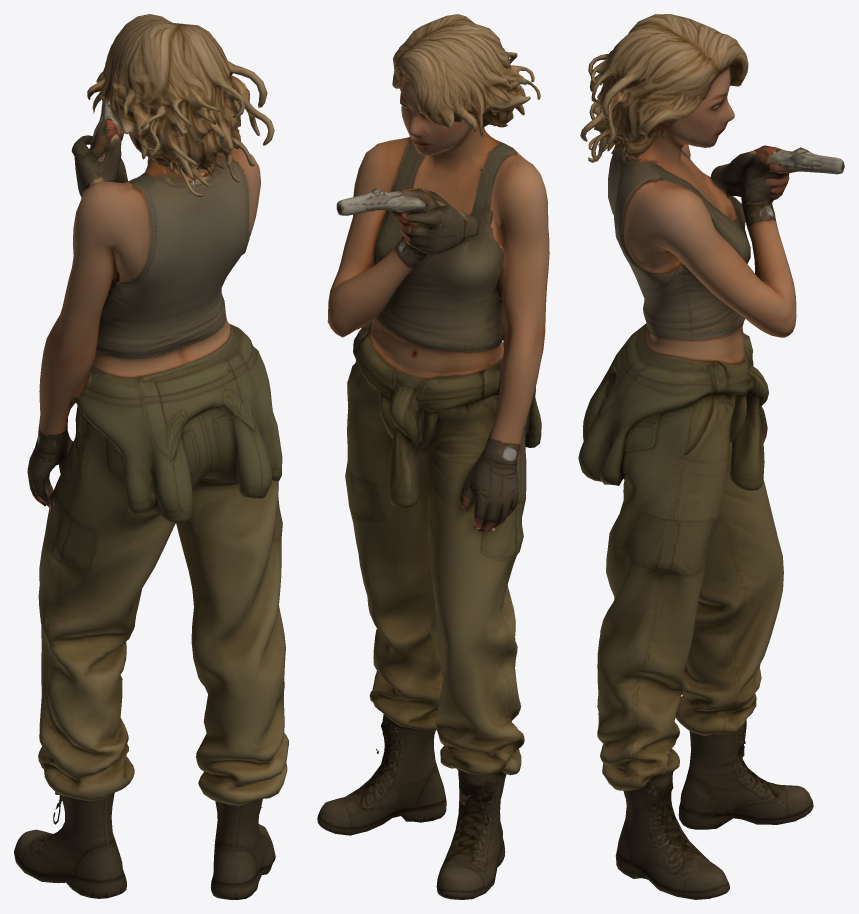
File: female_military.glb
3 views of the same model, side by side, from view 1: azimuth 30°, elevation 25°; view 2: azimuth 150°, elevation 25°; view 3: azimuth 270°, elevation 25° (orthographic). The views are drawn at different scales.
Visible parts, largest first — view 1: tripo_node_48db2772-ebf5-4824-981a-7b80cc7478f1; view 2: tripo_node_48db2772-ebf5-4824-981a-7b80cc7478f1; view 3: tripo_node_48db2772-ebf5-4824-981a-7b80cc7478f1.
Part boxes in pixels (x1,y1,x2,y2): tripo_node_48db2772-ebf5-4824-981a-7b80cc7478f1: (14, 14, 288, 899); tripo_node_48db2772-ebf5-4824-981a-7b80cc7478f1: (317, 14, 549, 899); tripo_node_48db2772-ebf5-4824-981a-7b80cc7478f1: (578, 14, 844, 899).
Bounding box in the file's own units: 0.4402 × 1.62 × 0.4719.
1 material, 1 textured.
